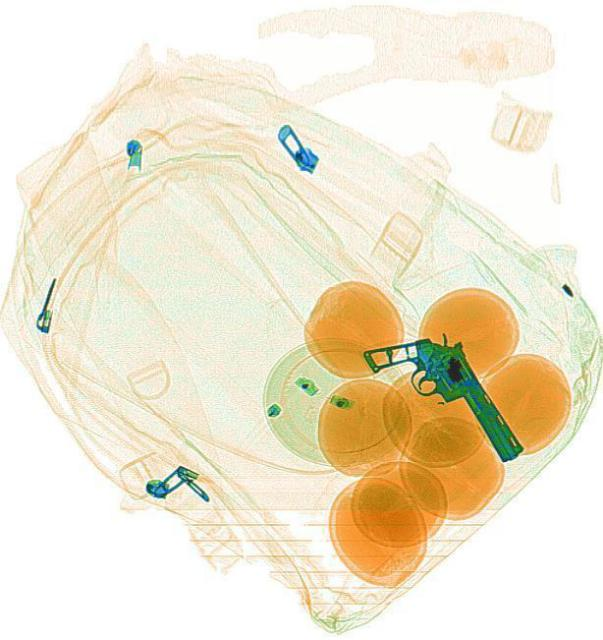Gun: (358, 306, 527, 494)
